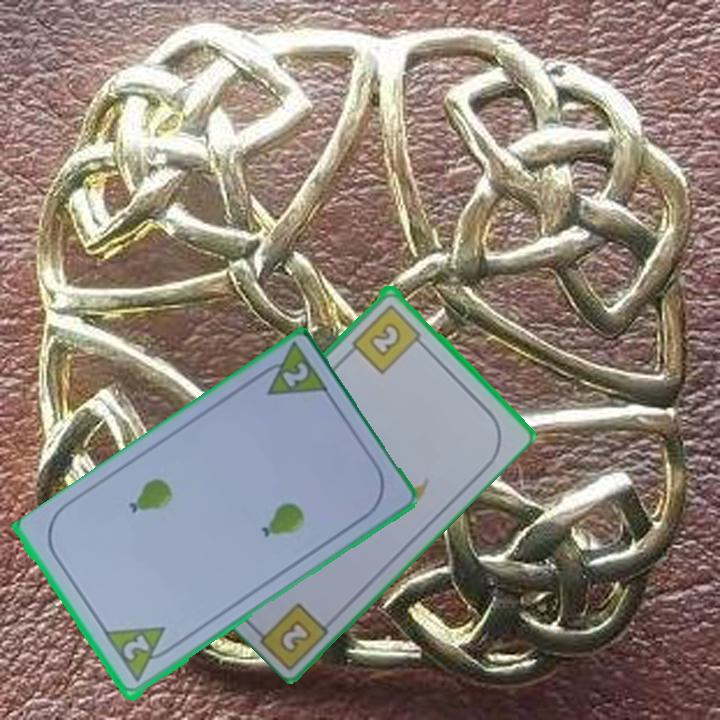2b: (348, 300, 428, 376), (275, 615, 315, 656)
2p: (119, 632, 153, 664), (278, 359, 312, 391)
